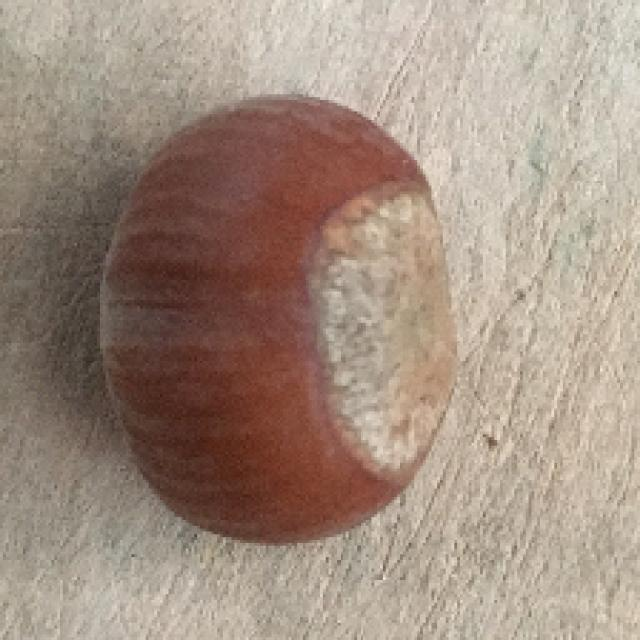qualityHazelnut: (97, 88, 459, 542)
